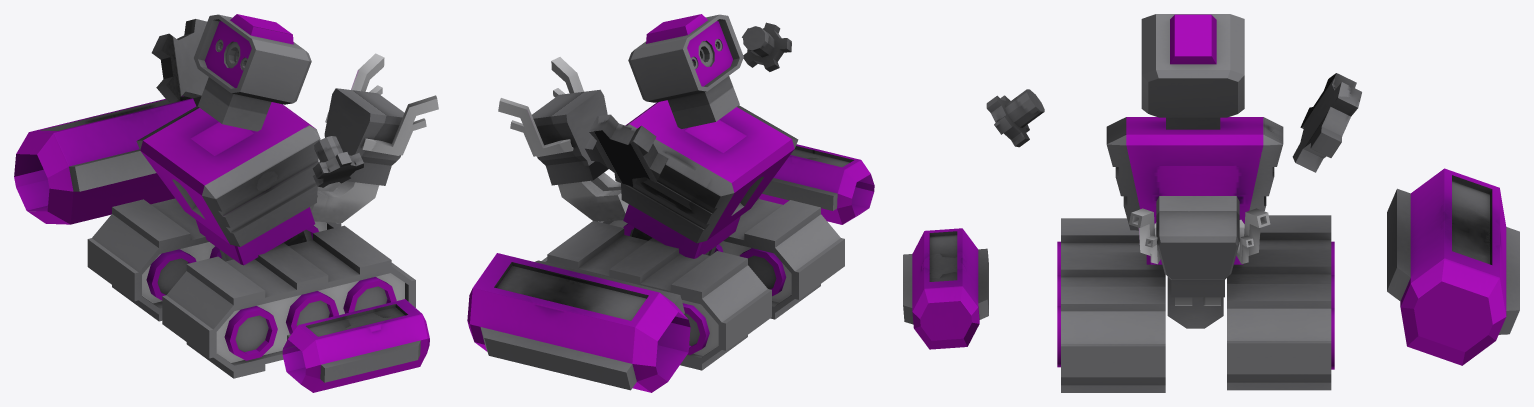
Rendered from Enemy2_Die16.obj.
The picture shows the model from 3 angles, left to right: view 1: azimuth 30°, elevation 25°; view 2: azimuth 150°, elevation 25°; view 3: azimuth 270°, elevation 25°; orthographic projection. The views are drawn at different scales.
Parts seen in each view (by area): view 1: Object006, Object013, Object011, Object012, Object014, Object010, Object009, Object008; view 2: Object006, Object011, Object013, Object012, Object010, Object014, Object009, Object008; view 3: Object006, Object011, Object013, Object012, Object010, Object014, Object009, Object008.
Part boxes in pixels (bbox=[...]): Object006: bbox=[87, 198, 415, 378]; Object013: bbox=[136, 102, 320, 265]; Object011: bbox=[14, 95, 196, 224]; Object012: bbox=[194, 14, 311, 131]; Object014: bbox=[282, 299, 429, 392]; Object010: bbox=[310, 53, 438, 222]; Object009: bbox=[151, 19, 208, 106]; Object008: bbox=[312, 136, 363, 187]; Object006: bbox=[541, 197, 844, 370]; Object011: bbox=[467, 253, 690, 392]; Object013: bbox=[621, 100, 798, 258]; Object012: bbox=[628, 14, 743, 128]; Object010: bbox=[498, 57, 628, 221]; Object014: bbox=[759, 144, 874, 224]; Object009: bbox=[584, 114, 668, 186]; Object008: bbox=[742, 22, 791, 71]; Object006: bbox=[1057, 215, 1334, 392]; Object011: bbox=[1387, 168, 1519, 365]; Object013: bbox=[1106, 117, 1283, 328]; Object012: bbox=[1141, 14, 1244, 129]; Object010: bbox=[1129, 196, 1270, 305]; Object014: bbox=[903, 228, 988, 349]; Object009: bbox=[1292, 73, 1361, 172]; Object008: bbox=[986, 89, 1044, 147].
Bounding box in the file's own units: 112 × 120 × 202.
